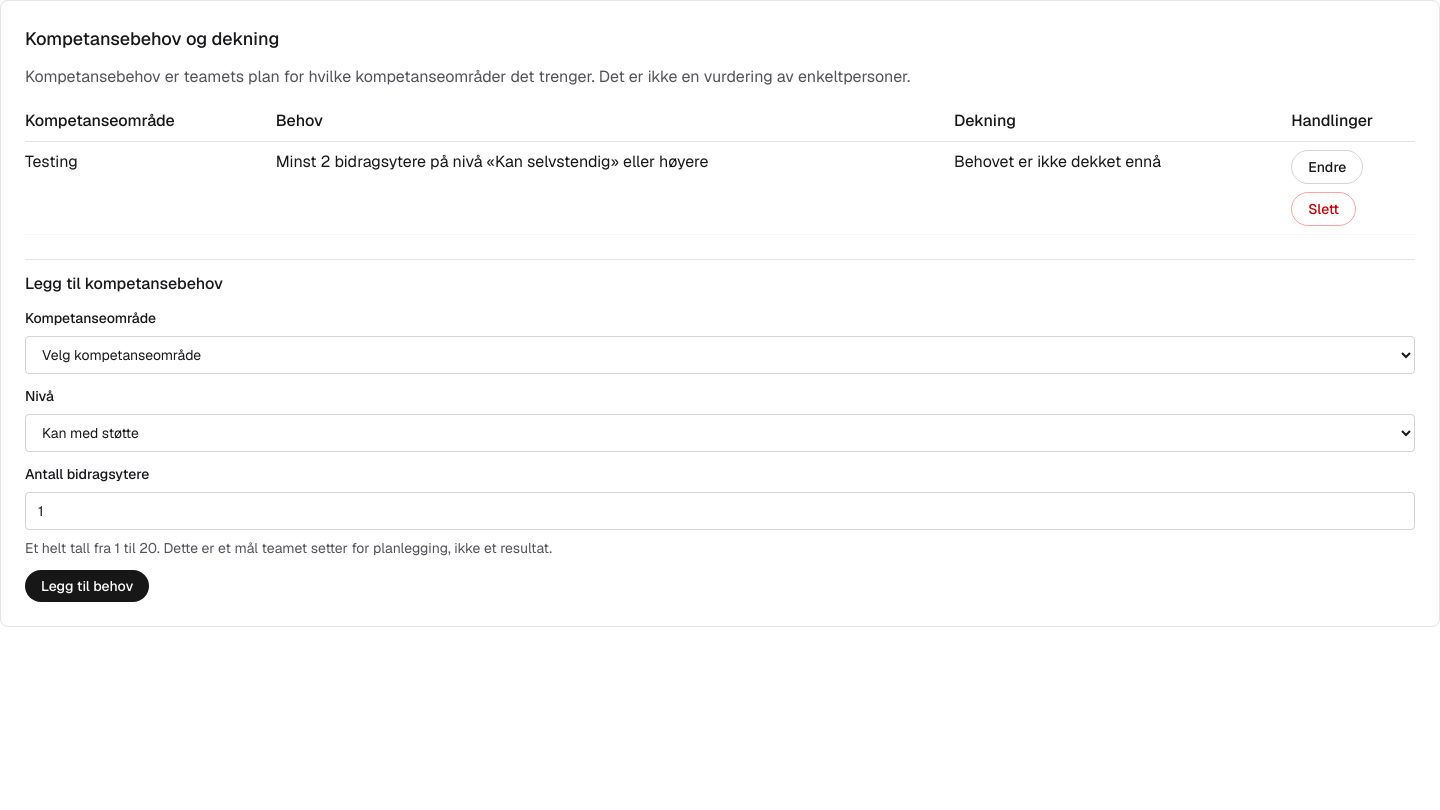
Test: TeamSkillNeedsSection — add › rejects a target of 1.5 with an associated error and no request
Expected: the heading "Kompetansebehov og dekning" is shown, [25, 27, 279, 50]
Select "Sikkerhet" in the dropdown labelled "Kompetanseområde": (720, 355) [25, 336, 1415, 374]
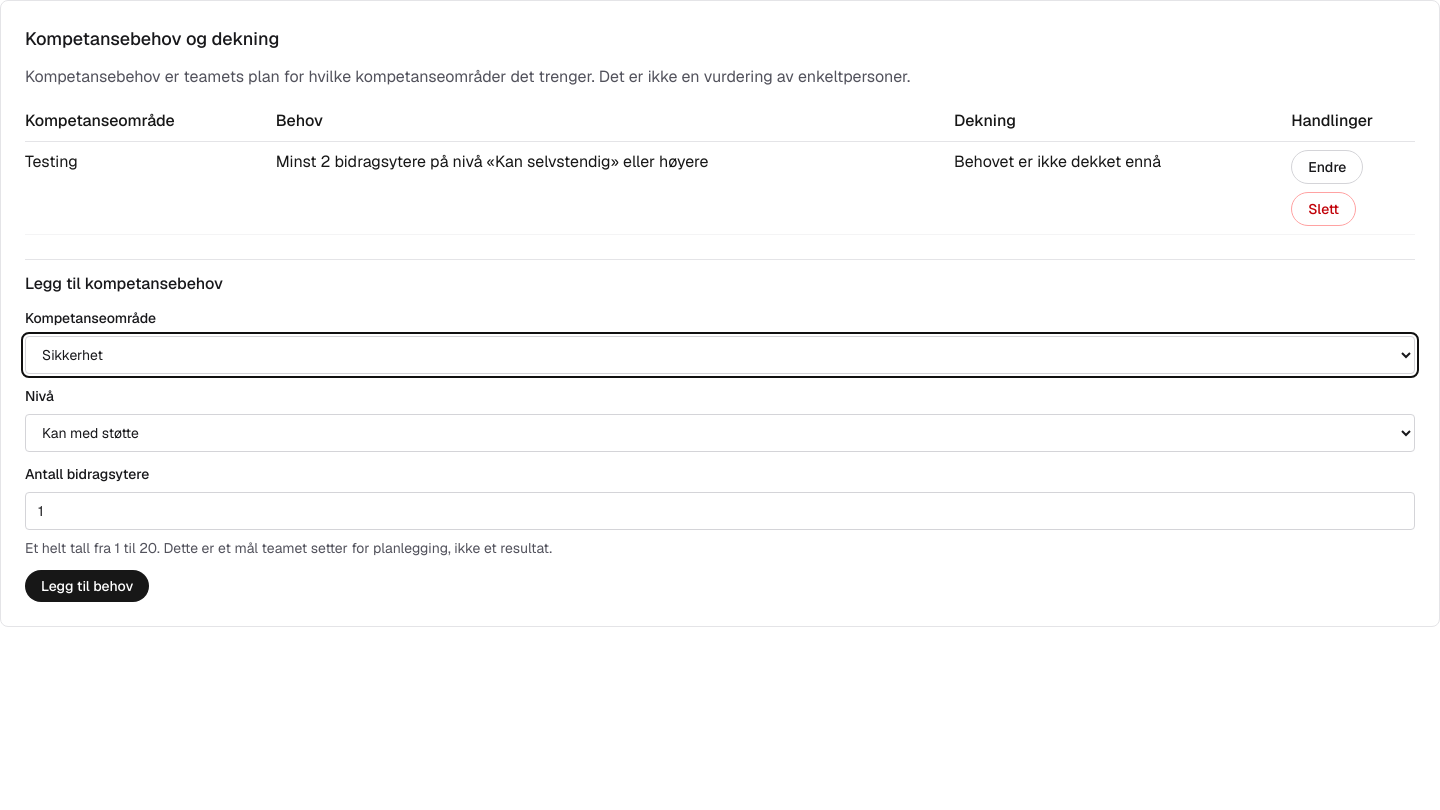
Replace the text in the number field labelled "Antall bidragsytere" with "1.5": (720, 511) [25, 492, 1415, 530]
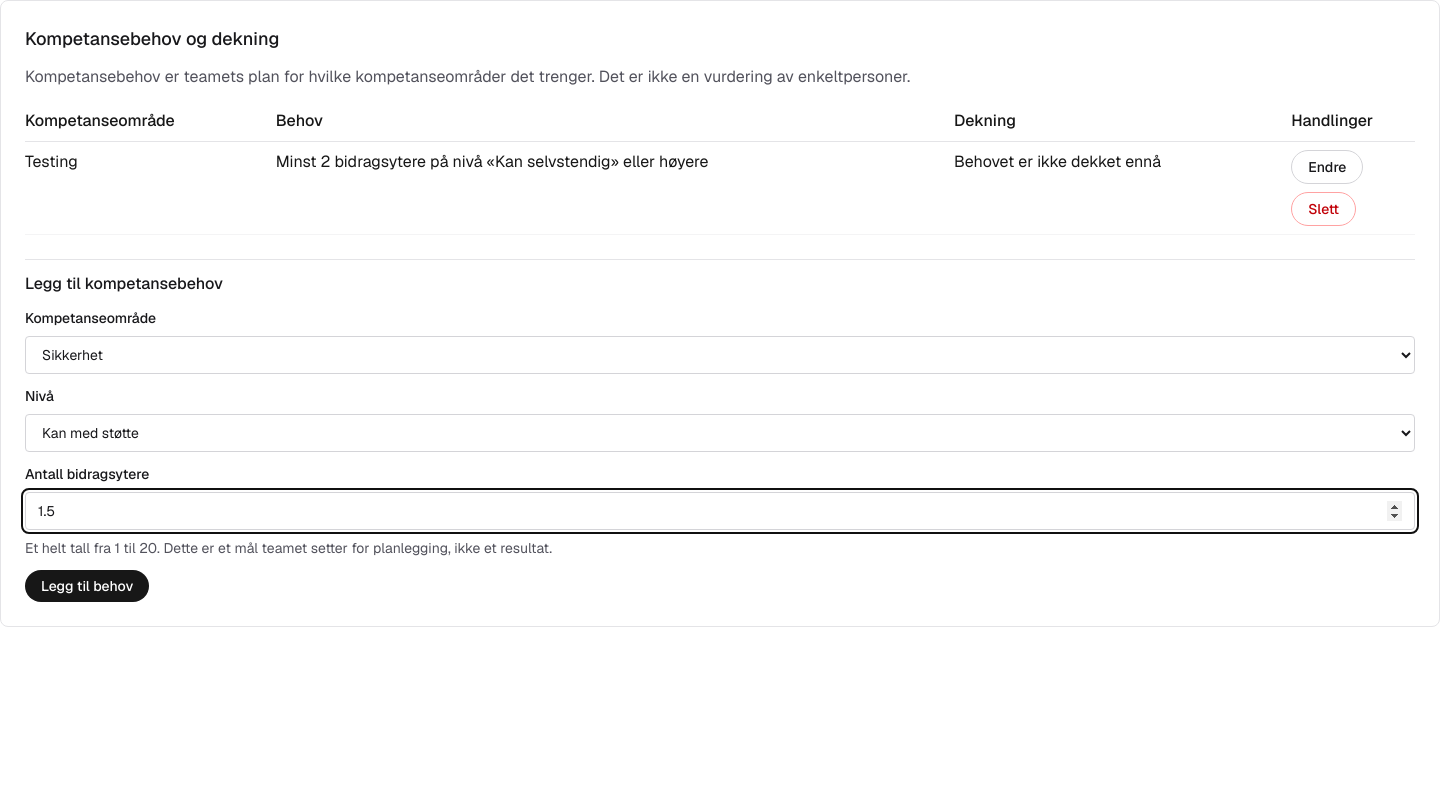
Click the button "Legg til behov": (87, 586) [25, 570, 149, 602]
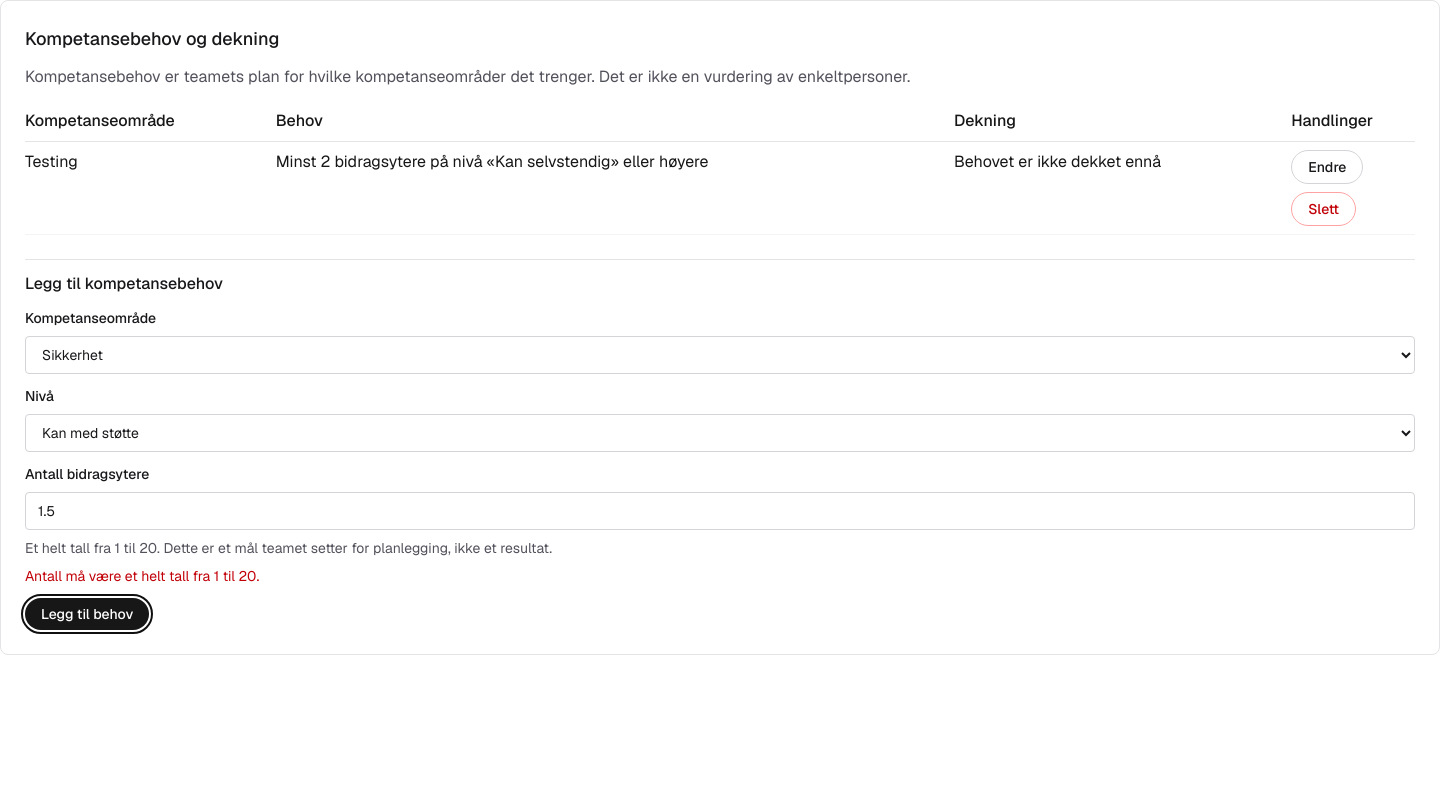
Expected: the text "Antall må være et helt tall fra 1 til 20." is shown, [25, 567, 259, 585]
